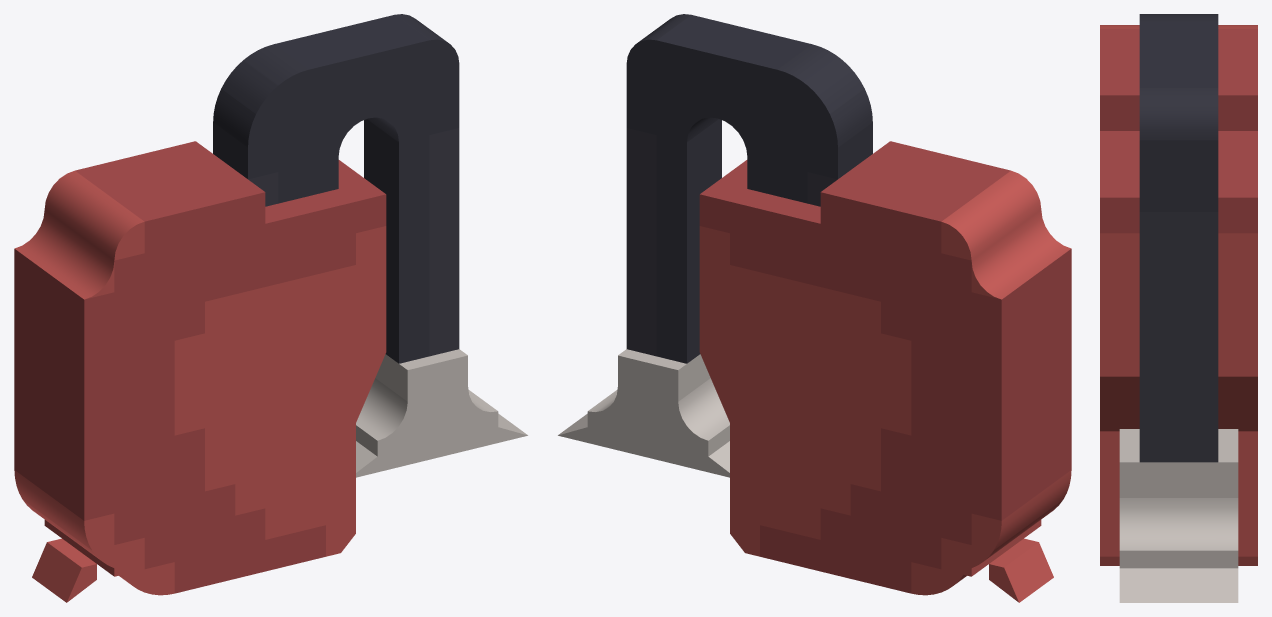
The model's file is vacuum.glb.
3 renders of one model, left to right at view 1: azimuth 30°, elevation 25°; view 2: azimuth 150°, elevation 25°; view 3: azimuth 270°, elevation 25°, orthographic. The views are drawn at different scales.
Visible parts, largest first — view 1: generated(Clone); view 2: generated(Clone); view 3: generated(Clone).
Part boxes in pixels (box(x1,y1,x2,y2)): generated(Clone): box(14, 14, 527, 602); generated(Clone): box(558, 14, 1071, 602); generated(Clone): box(1100, 14, 1257, 602).
Bounding box in the file's own units: 7.5 × 7.5 × 2.
1 material, 1 textured.
